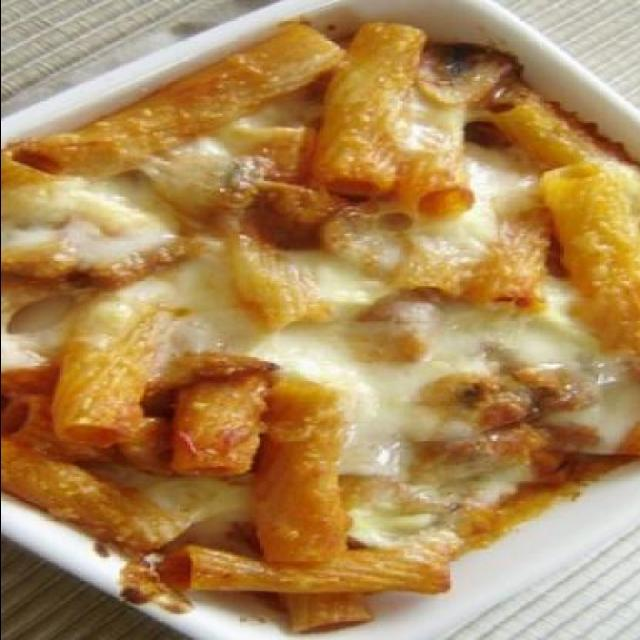Pasta al ragu: (26, 15, 638, 632)
